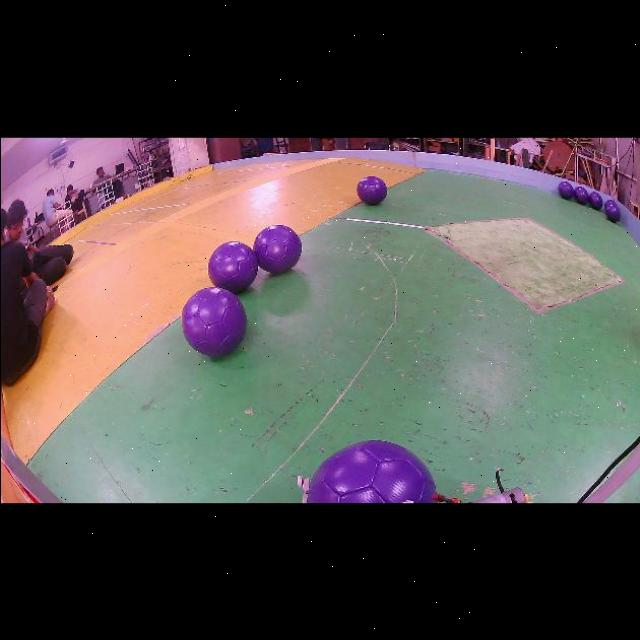P: (305, 438, 436, 502), (181, 286, 247, 354), (207, 239, 257, 292), (253, 223, 301, 272), (356, 174, 386, 203), (556, 179, 573, 197), (603, 202, 619, 220), (587, 189, 602, 208), (573, 184, 588, 202), (603, 197, 614, 205)
